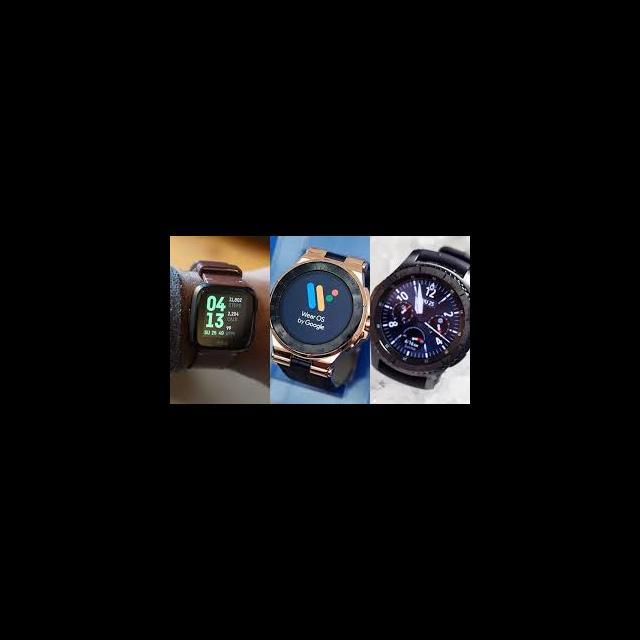watch: (377, 254, 478, 408), (177, 243, 263, 405), (280, 242, 367, 392)
